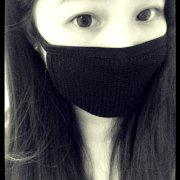OK: (49, 3, 165, 119)
